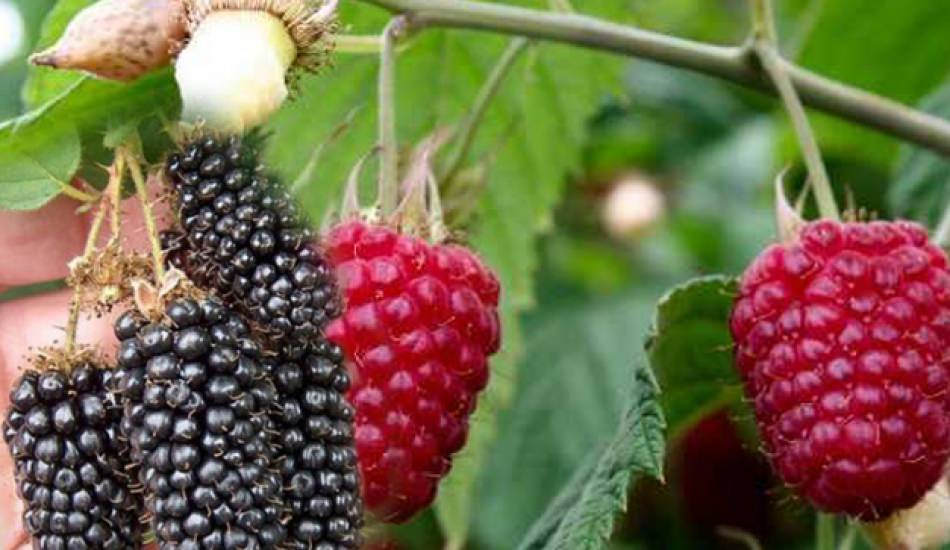Blackberry: (725, 229, 950, 524), (293, 257, 526, 516), (107, 301, 286, 550), (162, 154, 336, 324)
